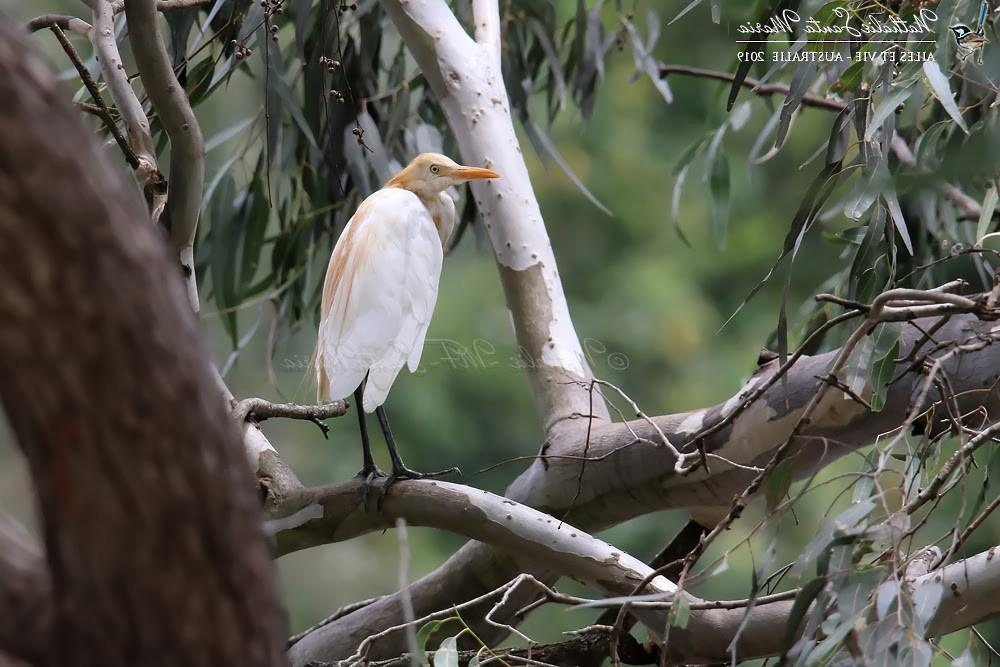egret: (335, 140, 506, 475)
